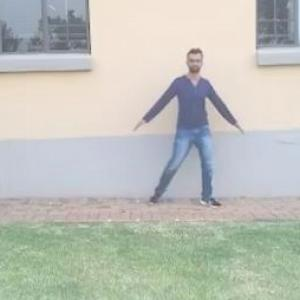land: (129, 52, 241, 223)
